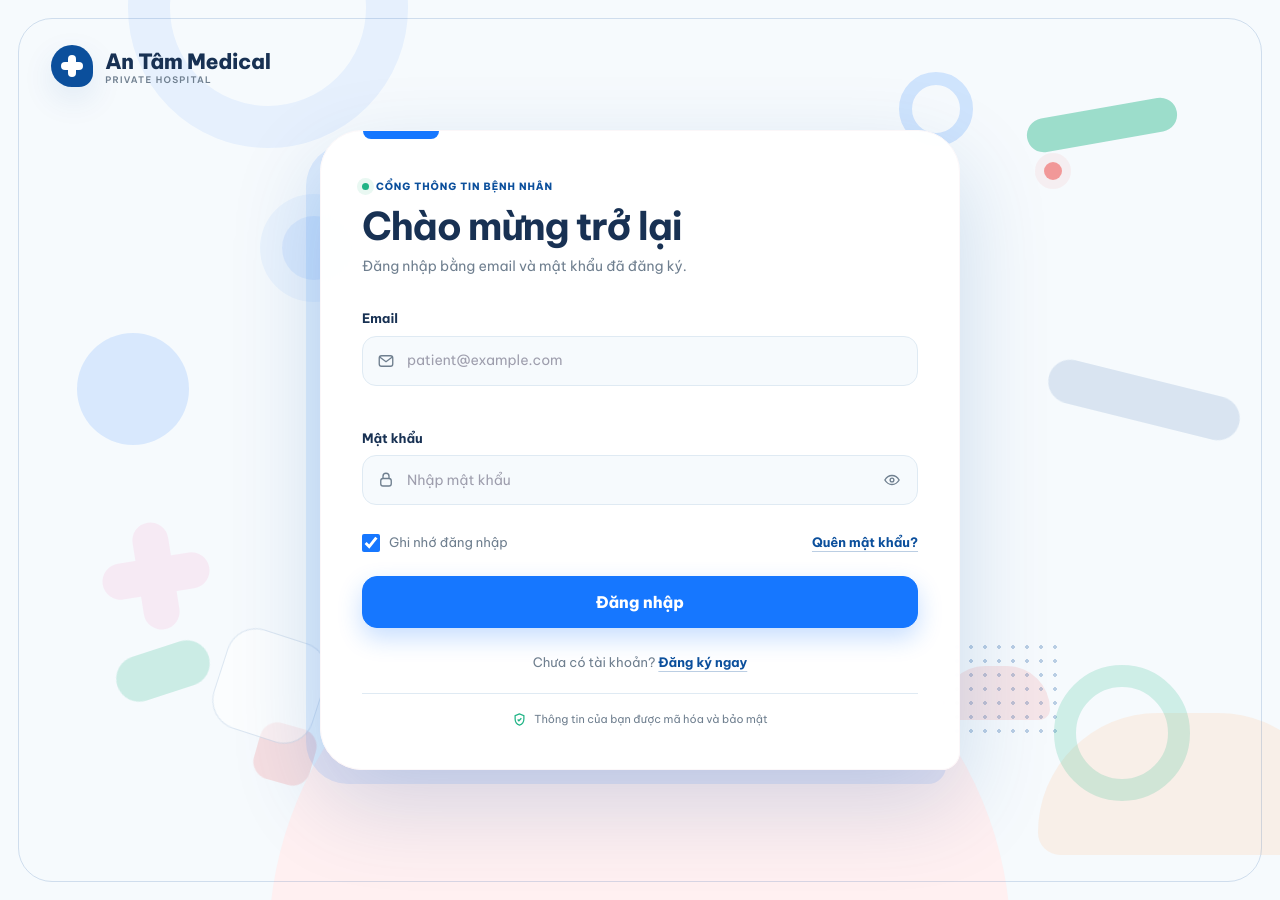
AuthShell › switches between login and register views
Check: the heading "Chào mừng trở lại" is shown, box x1=362 y1=202 x2=682 y2=250
Click the button "Đăng ký ngay". click: coordinates (703, 662)
box: x1=658 y1=650 x2=747 y2=675
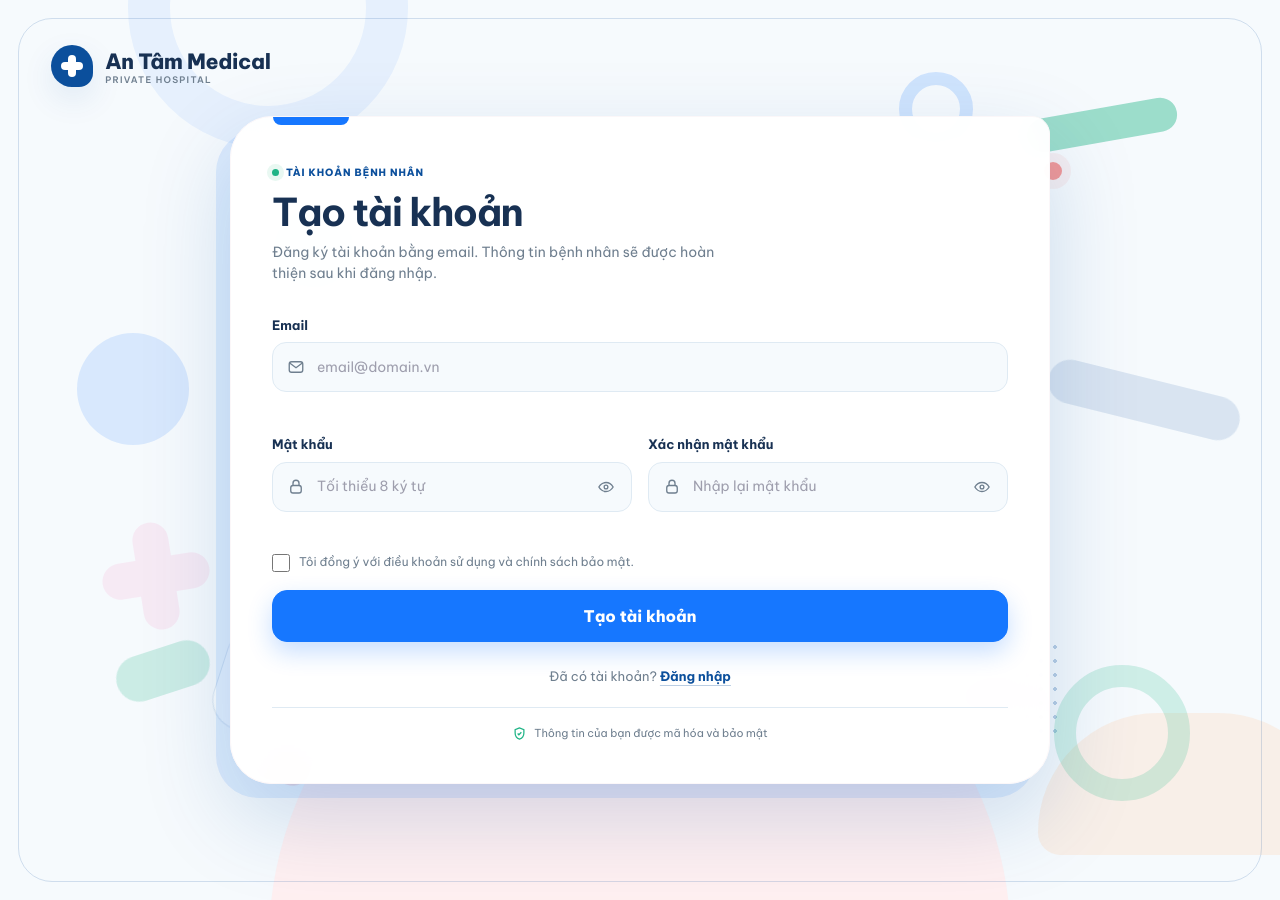
Check: the heading "Tạo tài khoản" is shown, box x1=272 y1=188 x2=522 y2=236
Click the button "Đăng nhập". click: coordinates (695, 677)
box: x1=660 y1=664 x2=731 y2=689
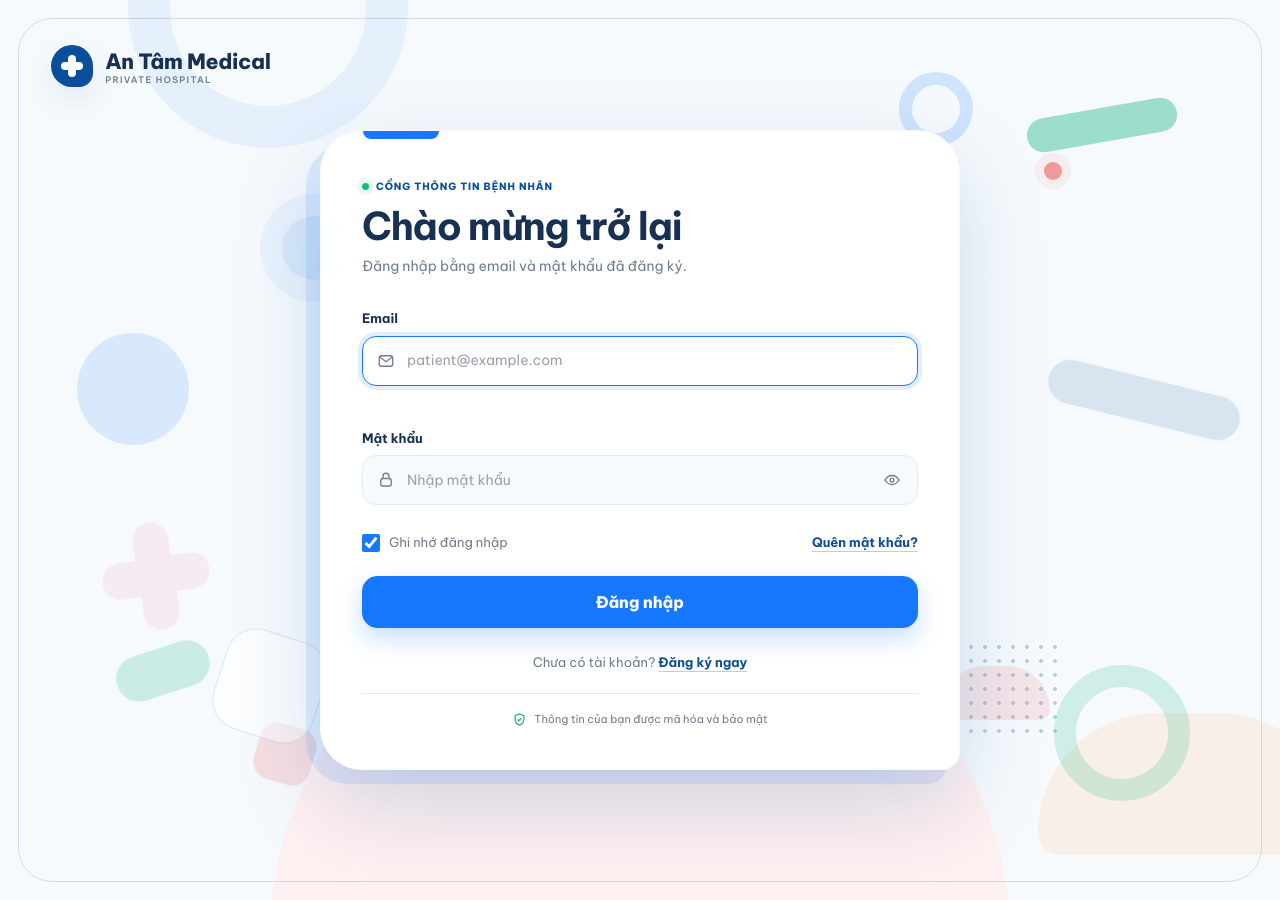
Check: the heading "Chào mừng trở lại" is shown, box x1=362 y1=202 x2=682 y2=250
